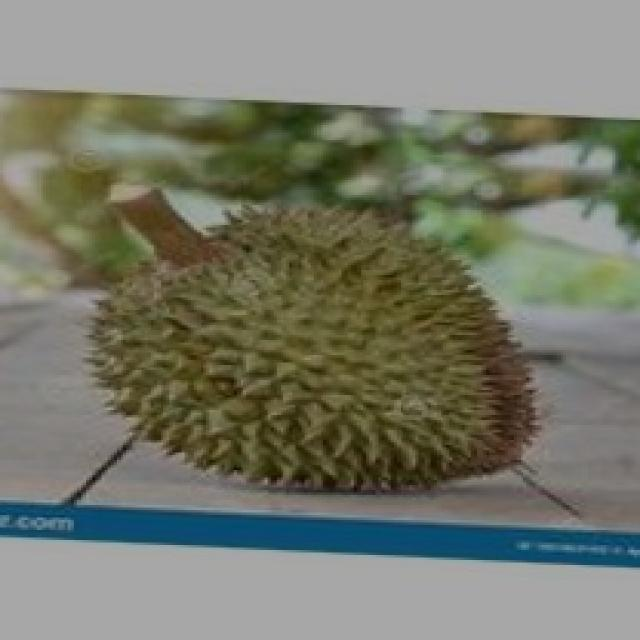fruit: (46, 168, 409, 528)
